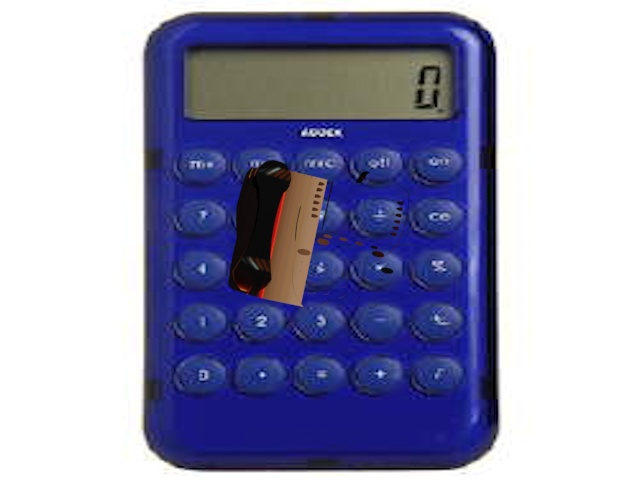phone: (224, 153, 416, 320)
